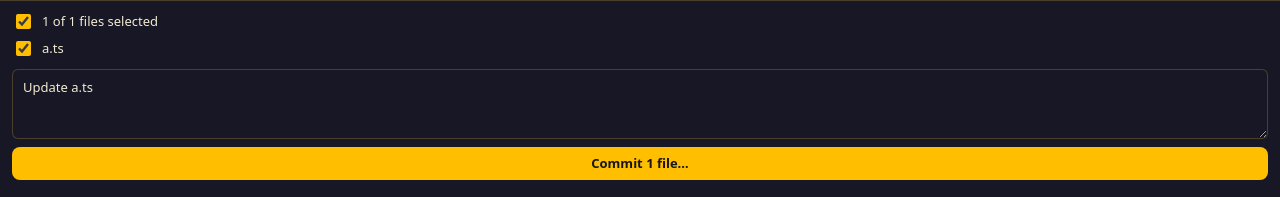
Test case: CommitBox › blocks Commit with a reason when nothing is ticked, the message is empty, the branch is empty, or a reply is running
The image size is (1280, 197).
Later steps or results of the test are not shown.
Clear the text box named "Commit message" at [640, 104], box left=12, top=69, right=1268, bottom=138
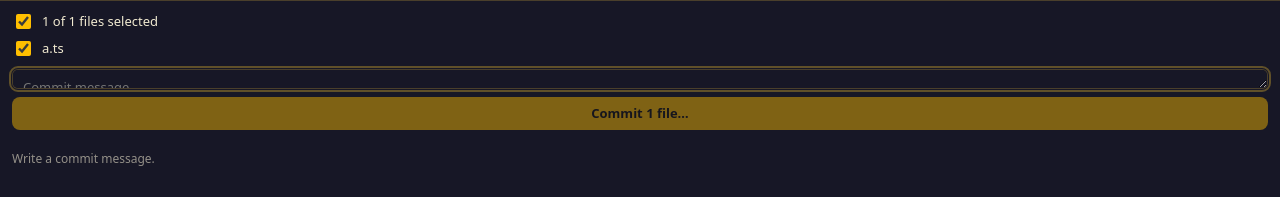
expect the button "Commit 1 file…" is disabled: met, box left=12, top=96, right=1268, bottom=130
expect the text "Write a commit message." is shown: met, box left=12, top=150, right=155, bottom=167
Type "Hello" into the text box labelled "Commit message" at [640, 79], box left=12, top=69, right=1268, bottom=88
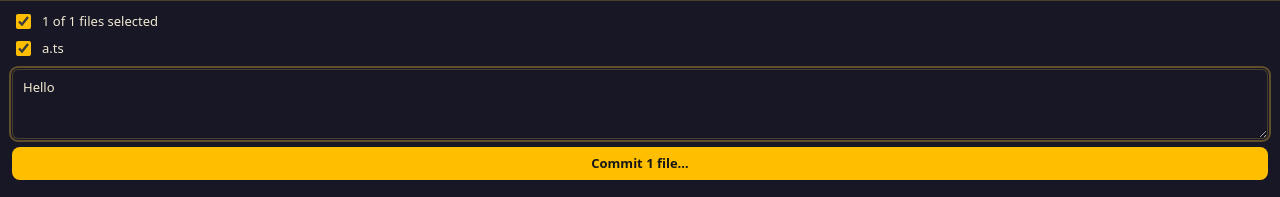
expect the button "Commit 1 file…" is enabled: met, box left=12, top=146, right=1268, bottom=180
Click the checkbox labelled "a.ts" at [24, 48], box left=16, top=41, right=31, bottom=56
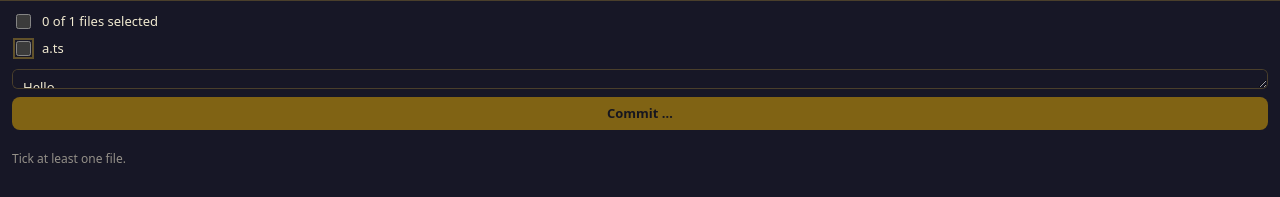
expect the text "Tick at least one file." is shown: met, box left=12, top=150, right=126, bottom=167
